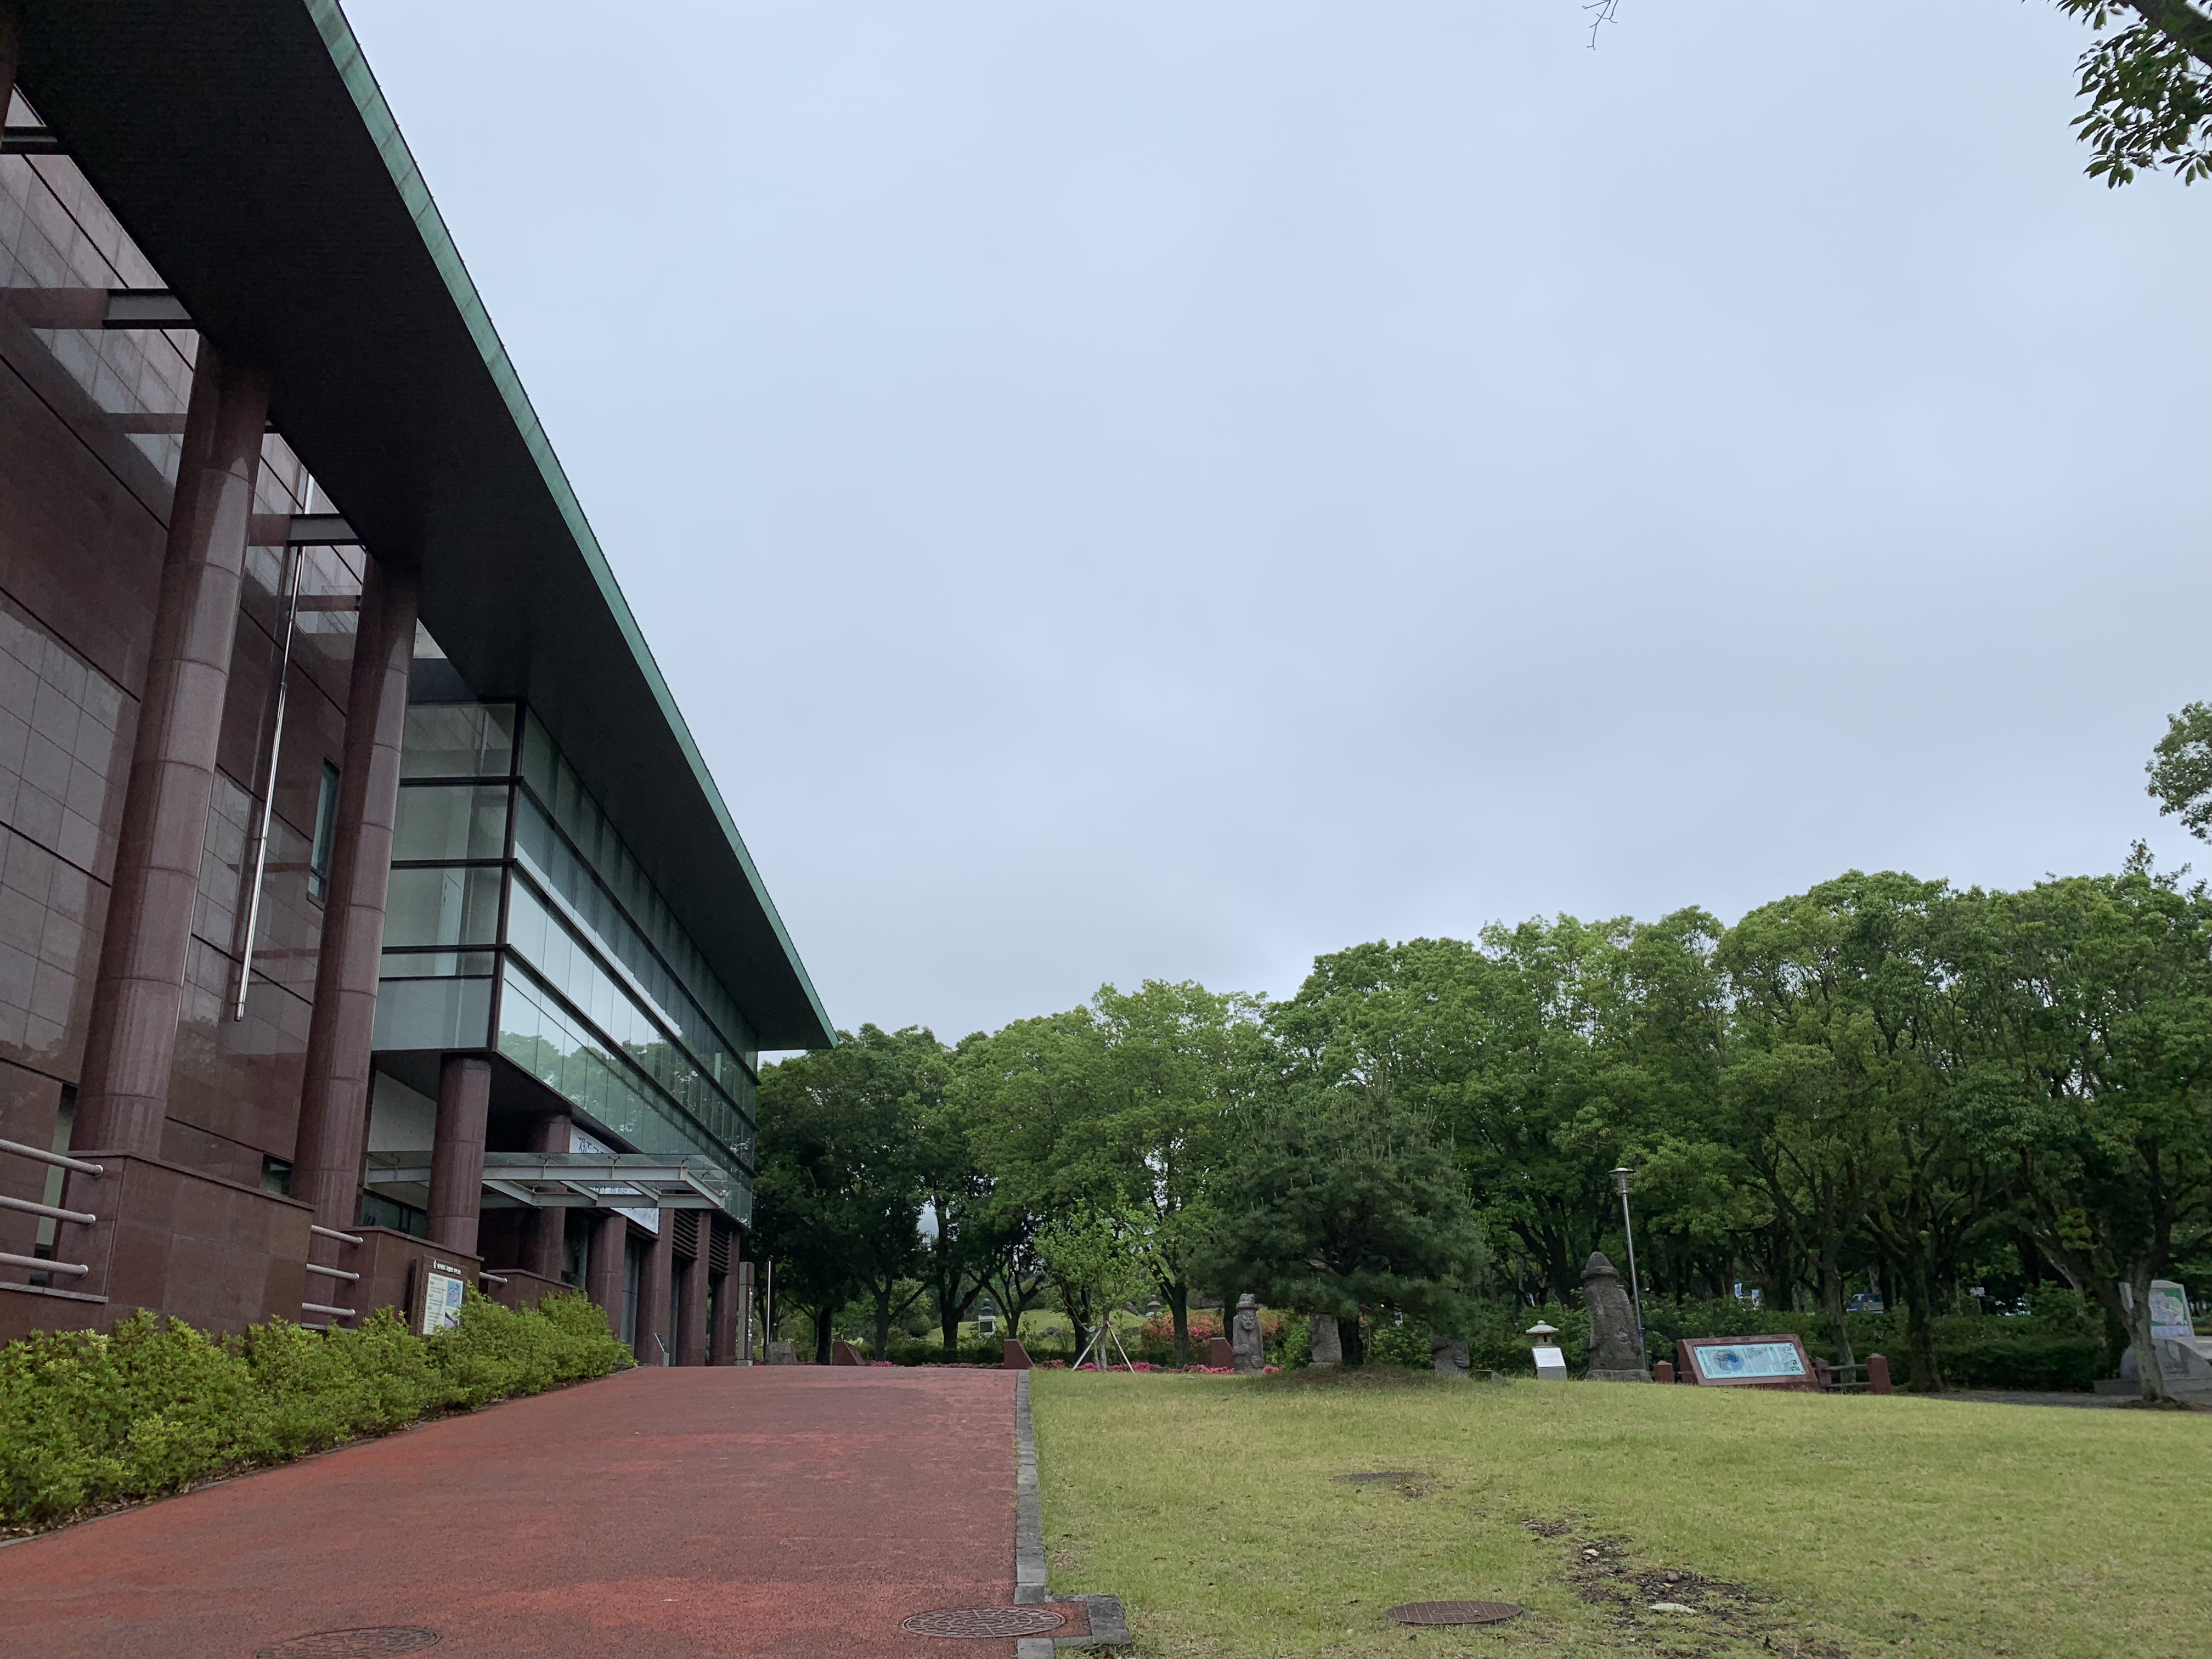Museum: (40, 35, 848, 1483)
